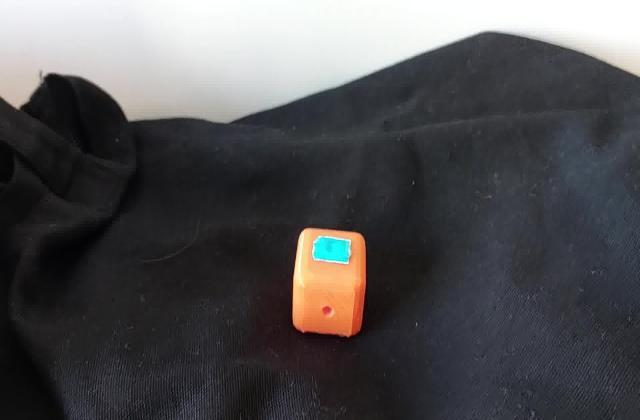blue: (320, 241, 348, 258)
cube: (290, 227, 370, 340)
